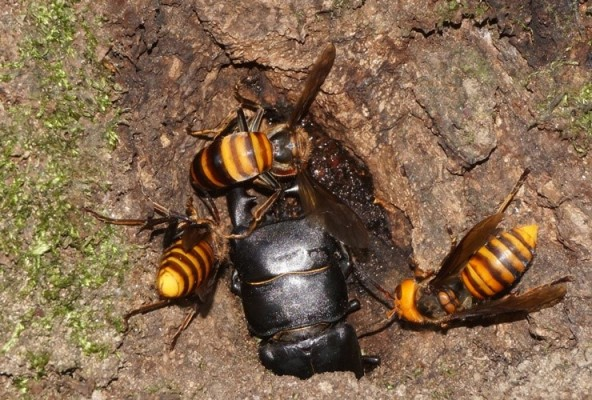asian_giant_hornet: (382, 213, 545, 329), (188, 110, 318, 202), (151, 211, 237, 304)
